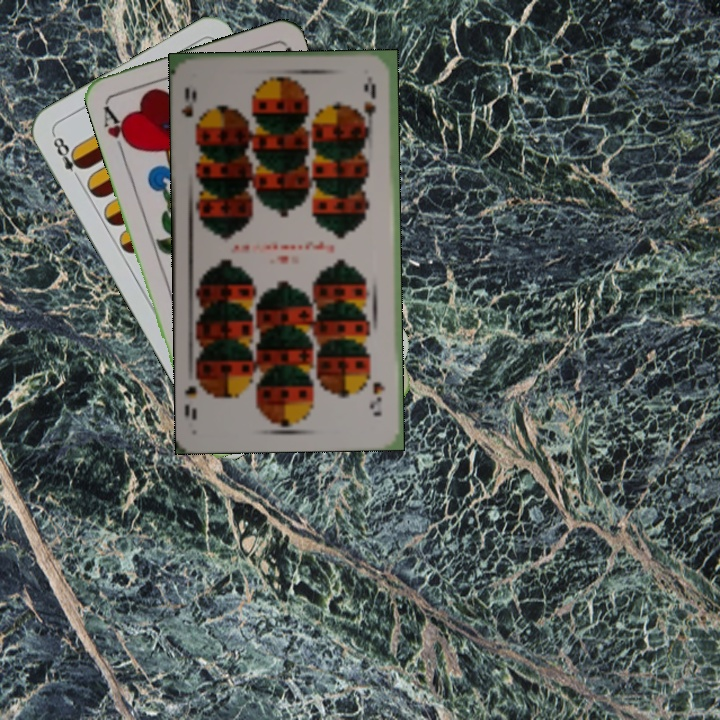E8: (49, 130, 87, 185)
HA: (99, 100, 136, 157)
S9: (177, 83, 204, 137), (368, 378, 388, 419)
